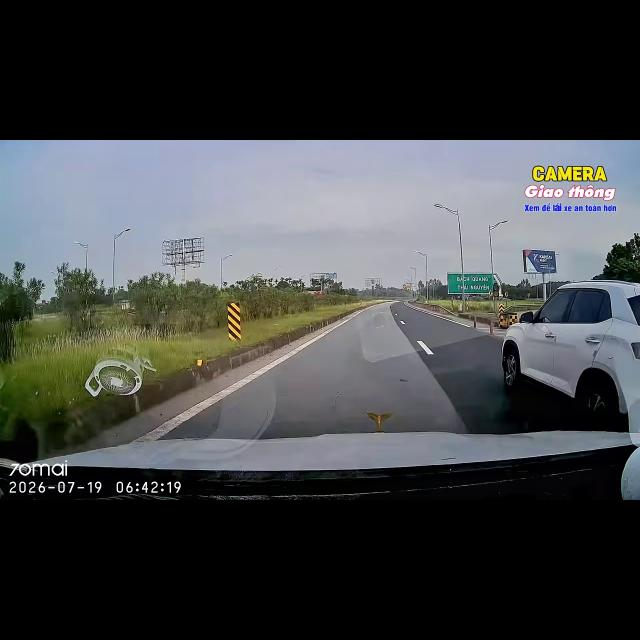car: (502, 280, 639, 431)
